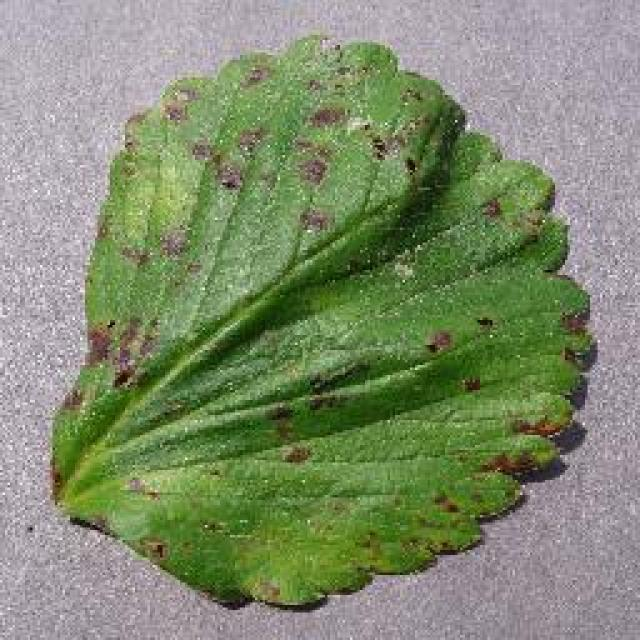Strawberry leaf scorch: (128, 111, 538, 502)
